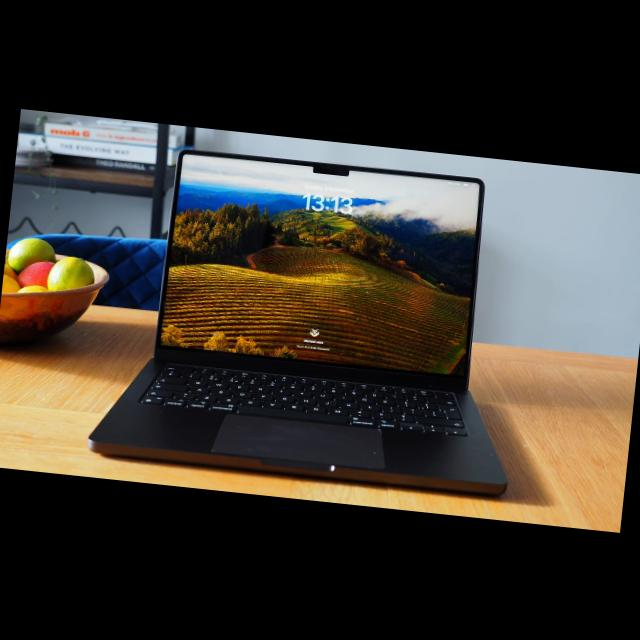laptop: (89, 136, 541, 504)
